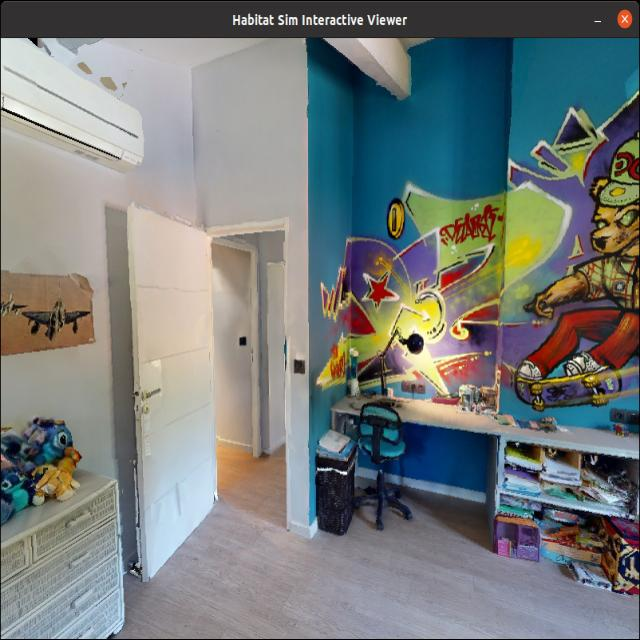door: (120, 213, 214, 548)
door-frame: (200, 221, 302, 540)
